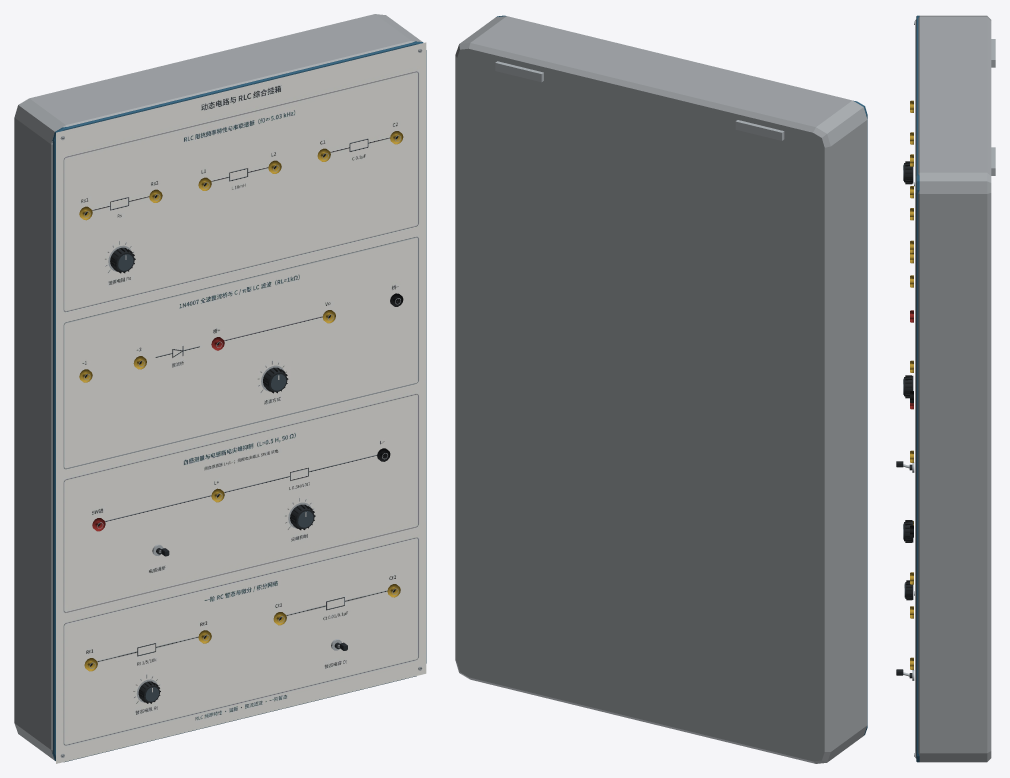
Rendered from module.glb.
3 views of the same model, side by side, from view 1: azimuth 30°, elevation 25°; view 2: azimuth 150°, elevation 25°; view 3: azimuth 270°, elevation 25° (orthographic). The views are drawn at different scales.
Parts seen in each view (by area): view 1: PANEL_silkscreen, STATIC_paint, STATIC_metal; view 2: STATIC_paint, STATIC_metal; view 3: STATIC_paint, STATIC_metal, MOVING_SW_RLC_R_paint, MOVING_SW_FILT_paint.
Part boxes in pixels (left/top/right/bottom): PANEL_silkscreen: left=56, top=42, right=426, bottom=763; STATIC_paint: left=14, top=14, right=426, bottom=762; STATIC_metal: left=60, top=48, right=422, bottom=757; STATIC_paint: left=455, top=15, right=867, bottom=763; STATIC_metal: left=495, top=61, right=784, bottom=140; STATIC_paint: left=910, top=15, right=991, bottom=762; STATIC_metal: left=912, top=21, right=995, bottom=756; MOVING_SW_RLC_R_paint: left=903, top=161, right=913, bottom=184; MOVING_SW_FILT_paint: left=903, top=375, right=913, bottom=398.
Size of the model in its own units: 0.29 by 0.47 by 0.0718.
9 materials, 1 textured.
